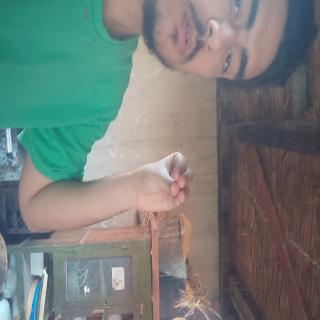HA: (109, 165, 163, 260)
